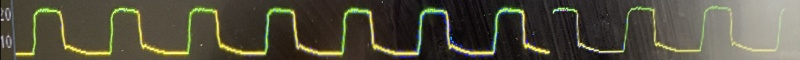normal_pressure: (9, 0, 799, 60)
